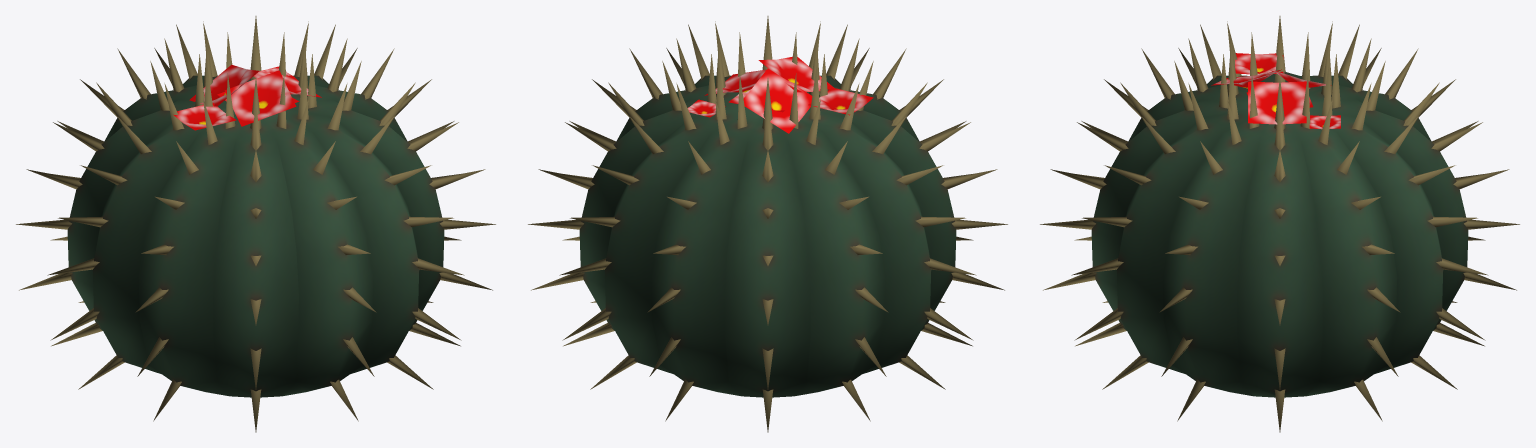
The model's file is sb_obj_nature012_Cactus02b.fbx.
3 views of the same model, side by side, from view 1: azimuth 30°, elevation 25°; view 2: azimuth 150°, elevation 25°; view 3: azimuth 270°, elevation 25° (orthographic).
Visible parts, largest first — view 1: sb_obj_nature012_Cactus02b; view 2: sb_obj_nature012_Cactus02b; view 3: sb_obj_nature012_Cactus02b.
Boxes of the visible parts, x1=… form: sb_obj_nature012_Cactus02b: x1=16, y1=16, x2=495, y2=432; sb_obj_nature012_Cactus02b: x1=528, y1=16, x2=1007, y2=432; sb_obj_nature012_Cactus02b: x1=1040, y1=16, x2=1519, y2=432.
Size of the model in its own units: 0.9441 by 0.6519 by 0.9441.
